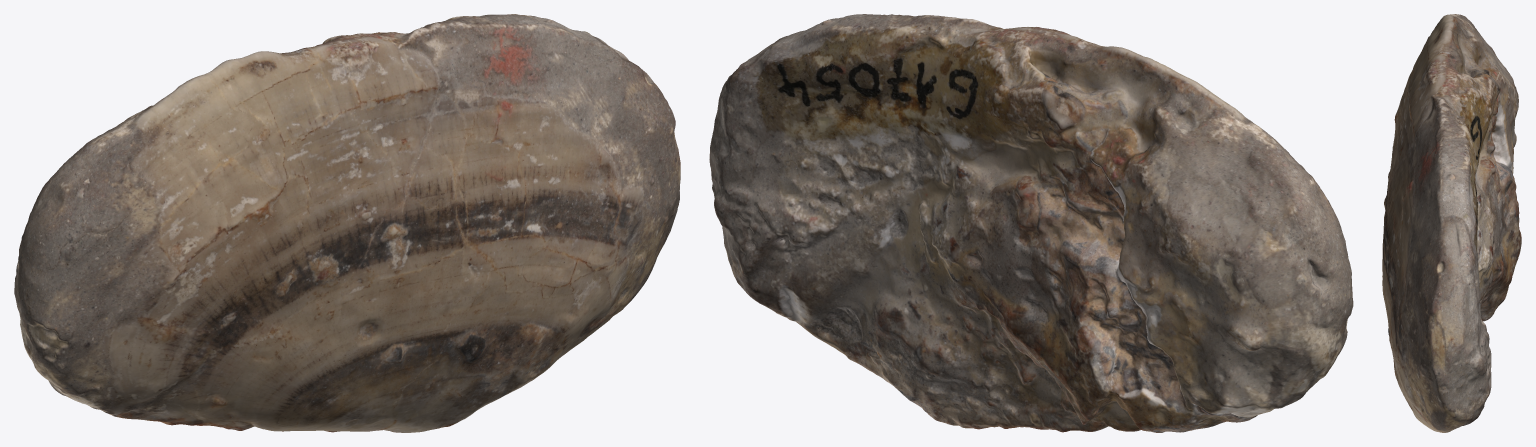
The model's file is EWS0012653.glb.
3 views of the same model, side by side, from view 1: azimuth 30°, elevation 25°; view 2: azimuth 150°, elevation 25°; view 3: azimuth 270°, elevation 25° (orthographic). The views are drawn at different scales.
Visible parts, largest first — view 1: input; view 2: input; view 3: input.
Boxes of the visible parts, x1,y1,x2,y2 form: input: (14,14,680,432); input: (709,14,1353,432); input: (1382,14,1521,432).
Bounding box in the file's own units: 0.0477 × 0.0296 × 0.0115.
1 material, 1 textured.
